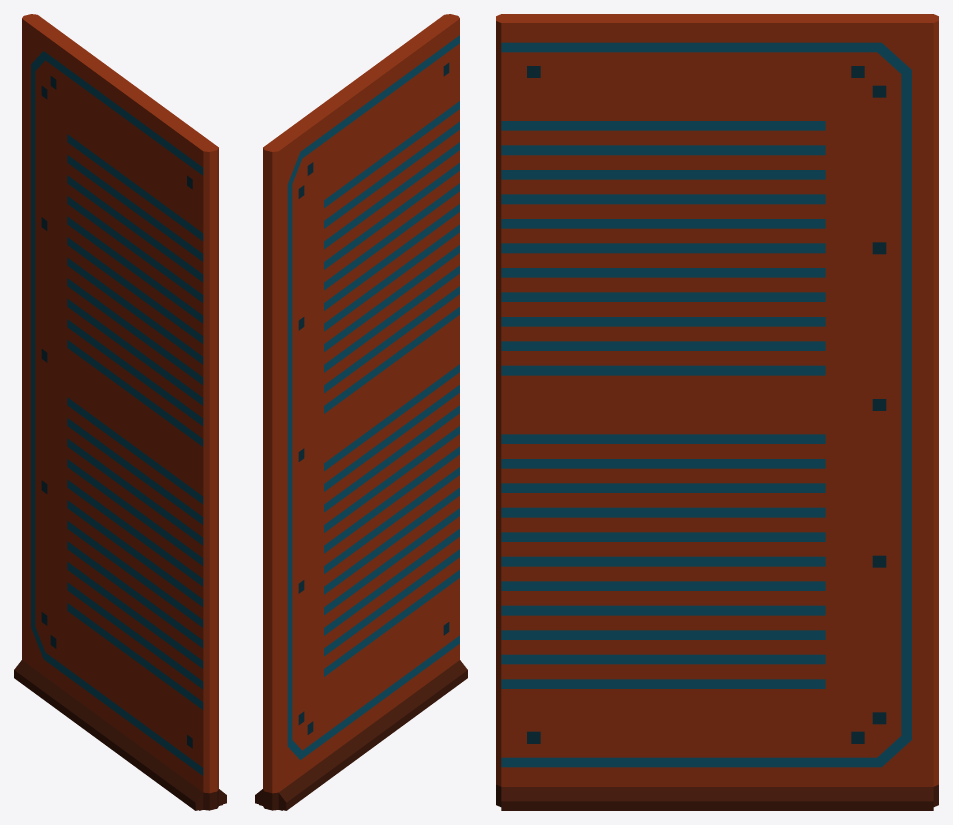
Rendered from Wall_1-2A_R.fbx.
3 views of the same model, side by side, from view 1: azimuth 30°, elevation 25°; view 2: azimuth 150°, elevation 25°; view 3: azimuth 270°, elevation 25° (orthographic). The views are drawn at different scales.
Parts seen in each view (by area): view 1: Wall_1-2A.R; view 2: Wall_1-2A.R; view 3: Wall_1-2A.R.
Part boxes in pixels (x1=…): Wall_1-2A.R: x1=14, y1=14, x2=226, y2=810; Wall_1-2A.R: x1=255, y1=14, x2=467, y2=810; Wall_1-2A.R: x1=496, y1=14, x2=938, y2=810.
Bounding box in the file's own units: 0.4 × 4.1 × 8.01.
